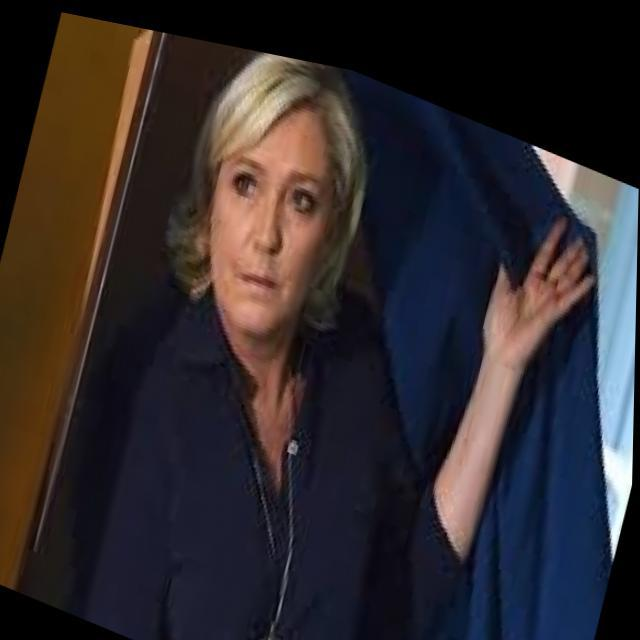Nonhelmet: (165, 51, 370, 340)
